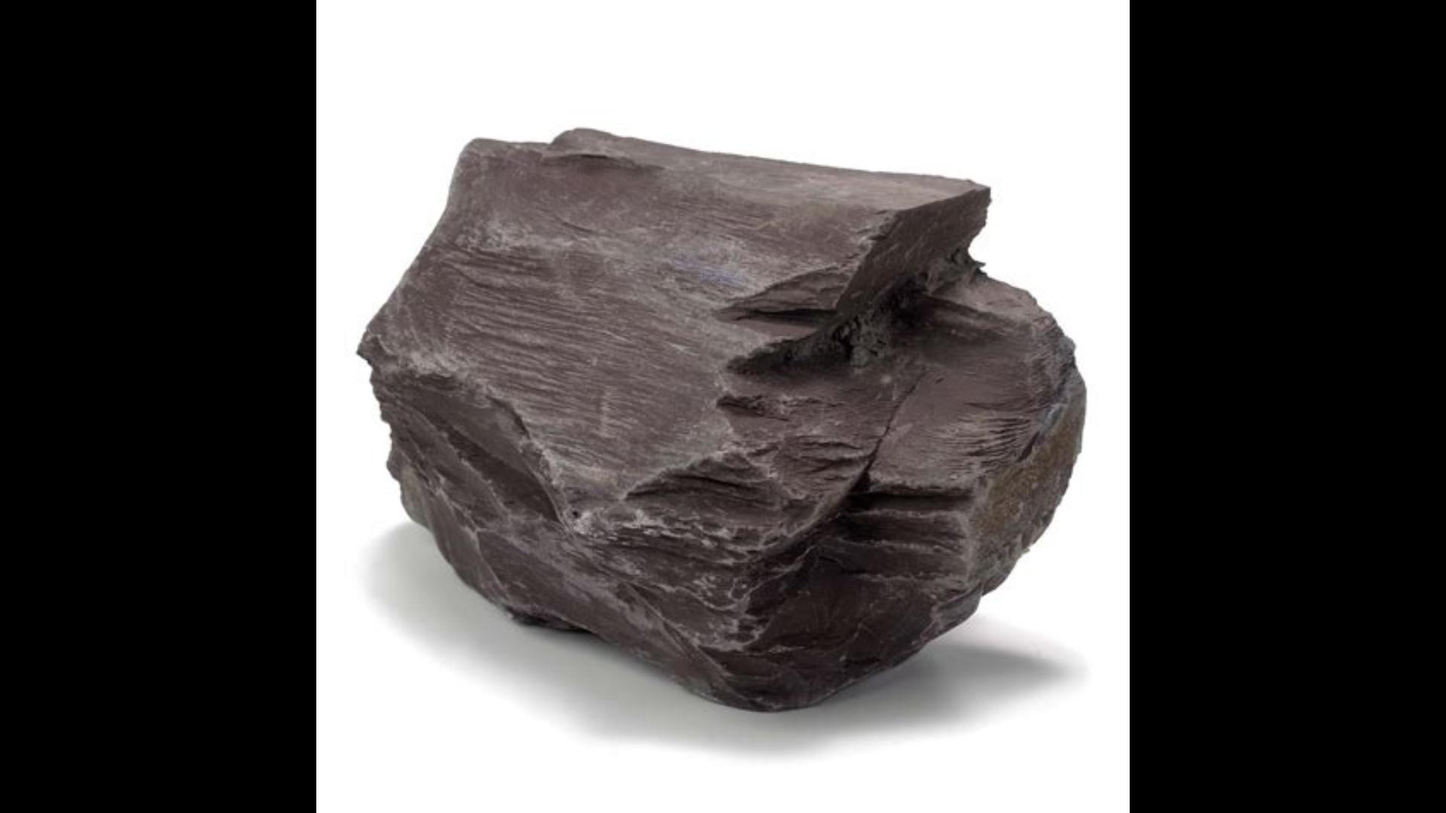rock: (361, 132, 1082, 705)
